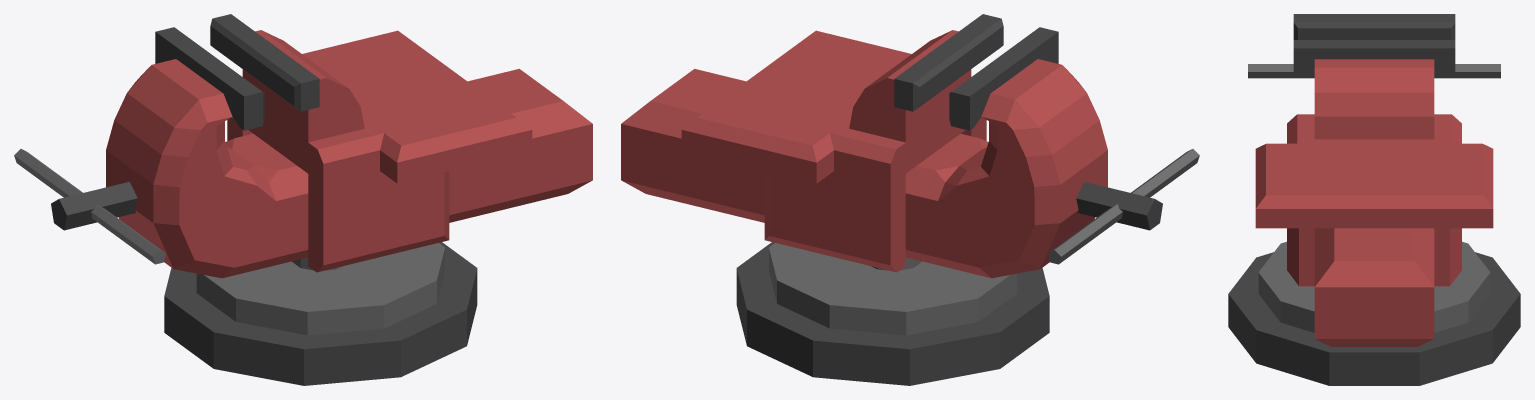
Rendered from Bench Vise.fbx.
The picture shows the model from 3 angles, left to right: view 1: azimuth 30°, elevation 25°; view 2: azimuth 150°, elevation 25°; view 3: azimuth 270°, elevation 25°; orthographic projection. The views are drawn at different scales.
Visible parts, largest first — view 1: BenchVise_01, BenchVise_02; view 2: BenchVise_01, BenchVise_02; view 3: BenchVise_01, BenchVise_02.
Part boxes in pixels (box(x1,y1,x2,y2)): BenchVise_01: box(14, 27, 592, 385); BenchVise_02: box(210, 14, 532, 272); BenchVise_01: box(621, 27, 1199, 385); BenchVise_02: box(681, 14, 1003, 272); BenchVise_01: box(1228, 14, 1520, 385); BenchVise_02: box(1255, 40, 1493, 286).
Bounding box in the file's own units: 54.84 × 29.71 × 30.33.
